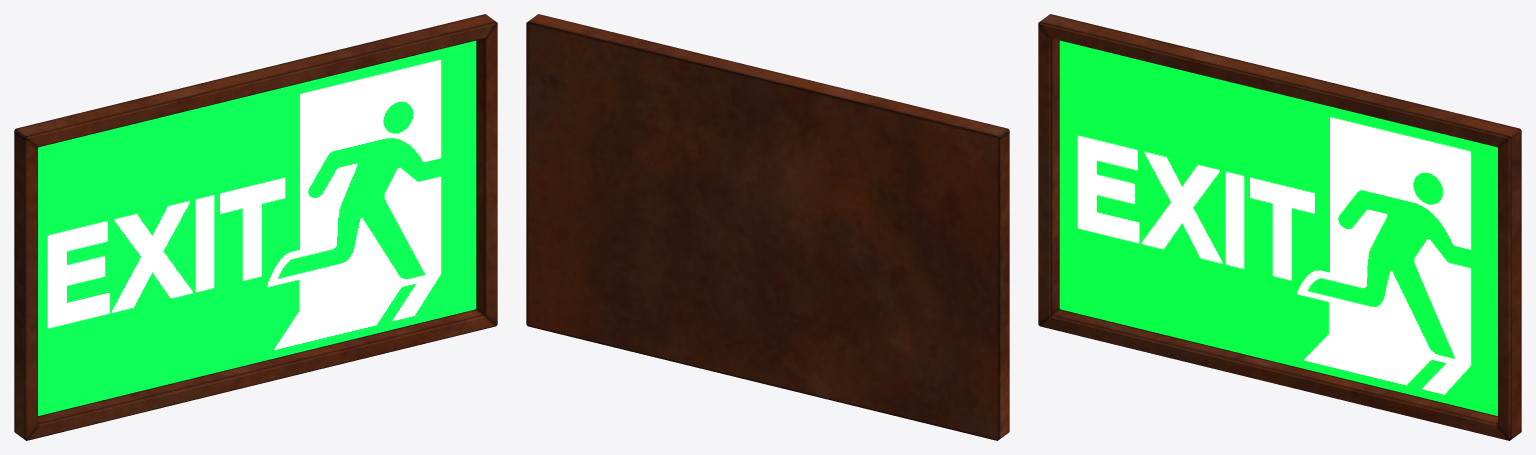
Rendered from Exit_sign.fbx.
3 views of the same model, side by side, from view 1: azimuth 30°, elevation 25°; view 2: azimuth 150°, elevation 25°; view 3: azimuth 330°, elevation 25° (orthographic).
Parts seen in each view (by area): view 1: Baked; view 2: Baked; view 3: Baked.
Boxes of the visible parts, box(x1,y1,x2,y2) form: Baked: box(14, 14, 497, 440); Baked: box(526, 14, 1009, 440); Baked: box(1038, 14, 1521, 440).
Size of the model in its own units: 1.31 by 31.17 by 19.18.
Materials: 1 (1 with a texture image).
